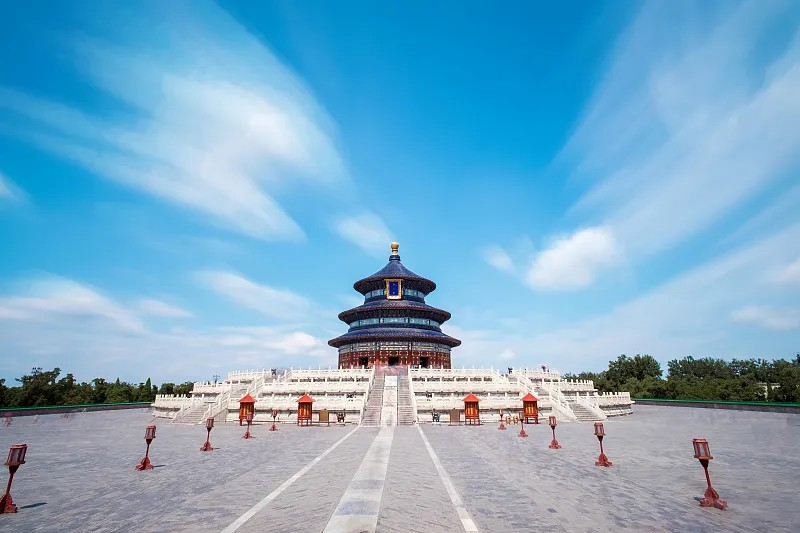Heaven: (327, 242, 460, 370)
